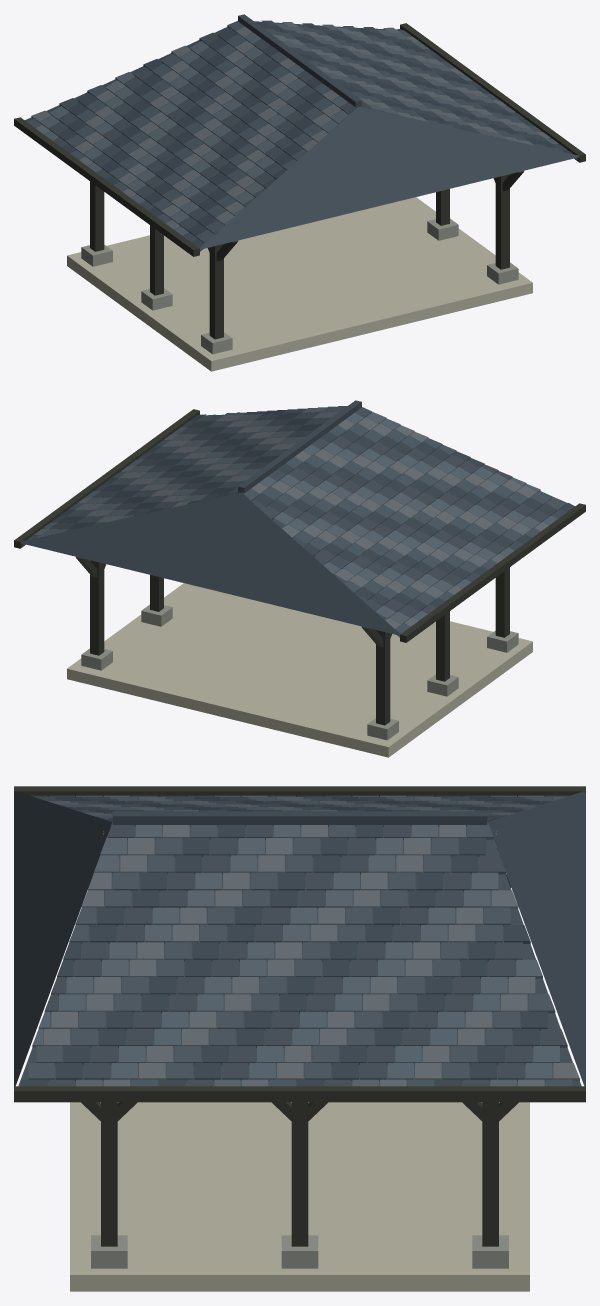
File: work_pavilion.glb
3 renders of one model, top to bottom at view 1: azimuth 30°, elevation 25°; view 2: azimuth 150°, elevation 25°; view 3: azimuth 270°, elevation 25°, orthographic. The views are drawn at different scales.
Parts seen in each view (by area): view 1: work_pavilion; view 2: work_pavilion; view 3: work_pavilion.
Part boxes in pixels (<box>): work_pavilion: <box>14,14,585,371</box>; work_pavilion: <box>14,400,585,757</box>; work_pavilion: <box>14,786,585,1291</box>.
Bounding box in the file's own units: 10.98 × 5.92 × 8.7.
